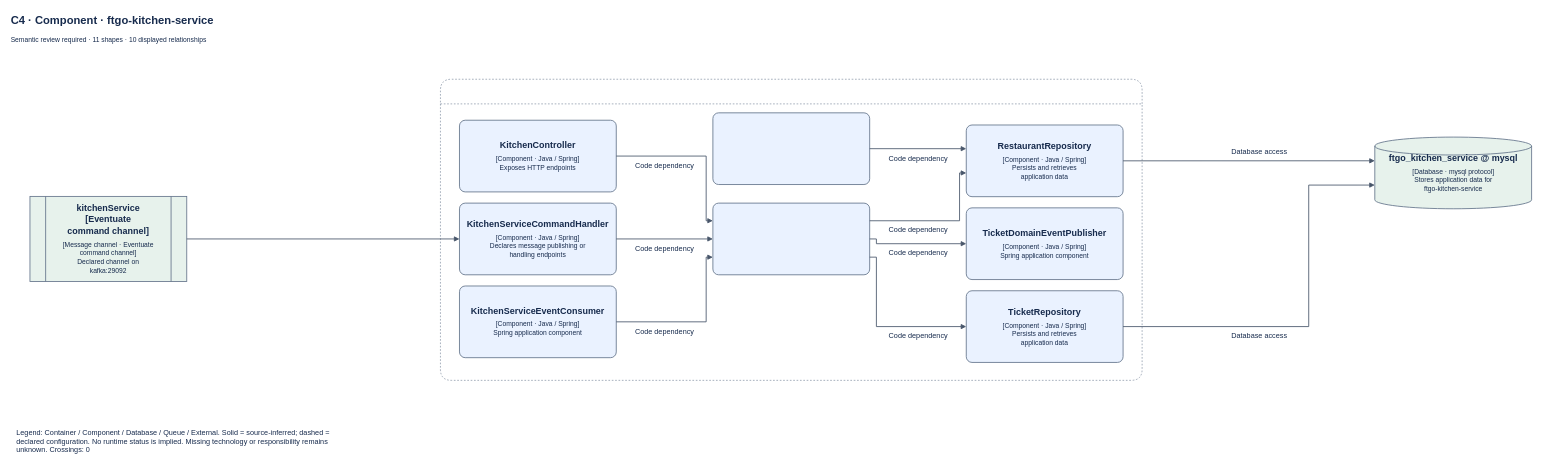
Some shapes in this 1542 by 470 pixel diagram are drawn without their labels. Here are the shapes that lost their labels. From the top down, the box of each, then its label:
(712, 112, 870, 185): RestaurantController [Component · Java / Spring] Exposes HTTP endpoints
(266, 240, 359, 255): Delivers messages to
(440, 79, 1142, 380): ftgo-kitchen-service · Components
(712, 202, 870, 275): KitchenService [Component · Java / Spring] Spring application component
